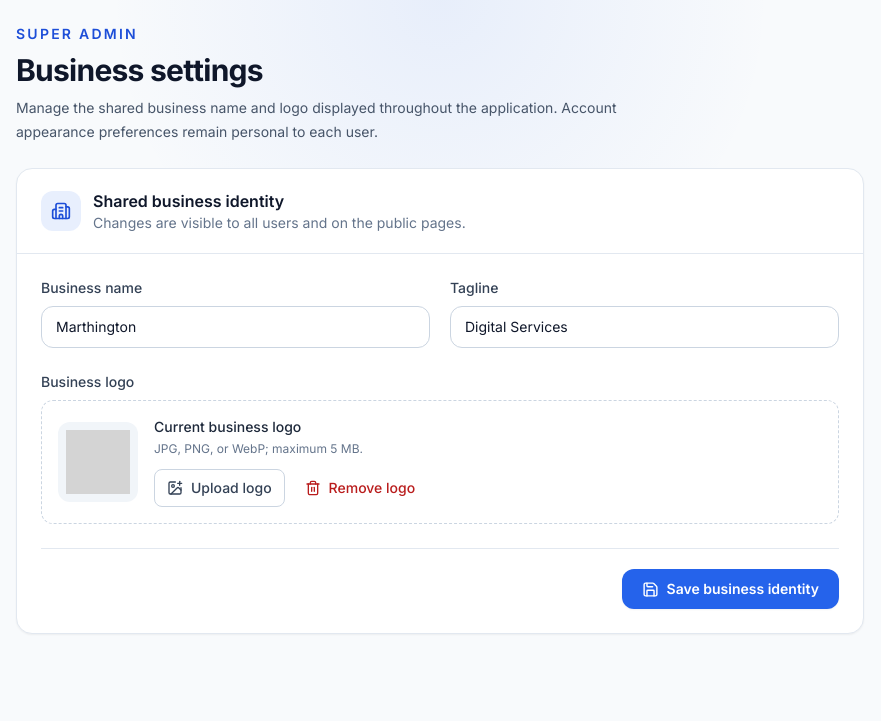
Test: business branding settings › saves shared business identity and applies it after the server confirms success
This screenshot has width=881, height=721.
Replace the text in the field labelled "Business name" with "Marthington Identity" at (236,327), box [41,306,430,348]
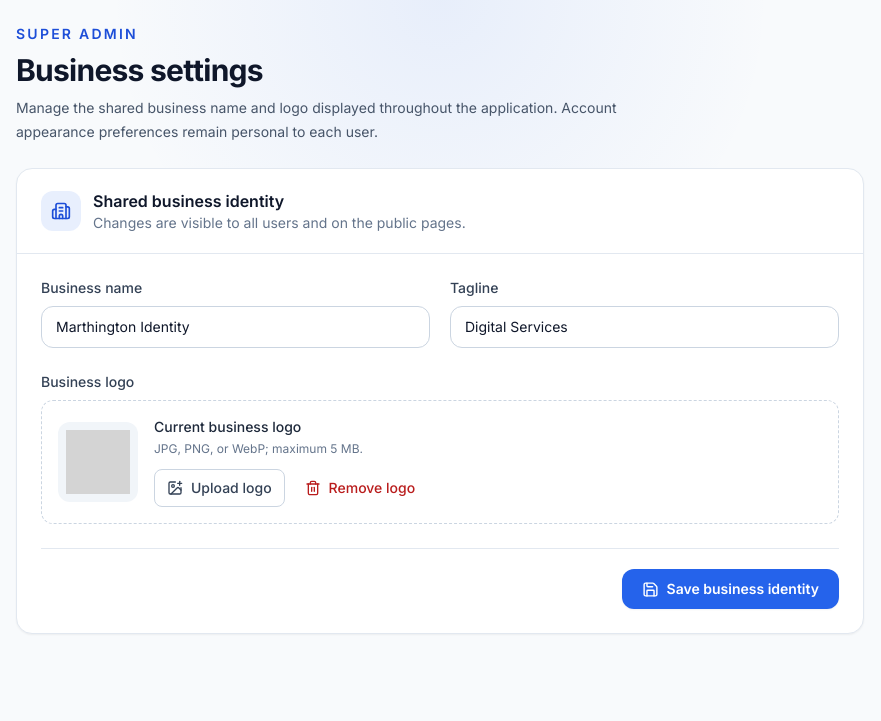
Replace the text in the field labelled "Tagline" with "Secure digital services" at (644,327), box [450,306,839,348]
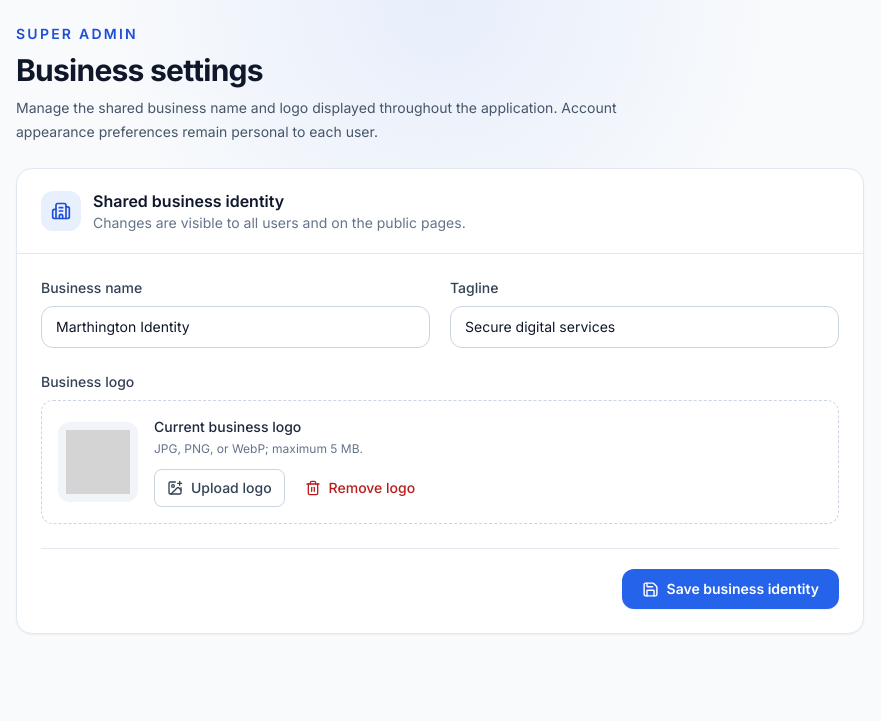
Click the button "Save business identity".
click(730, 589)  # box [622,569,839,609]
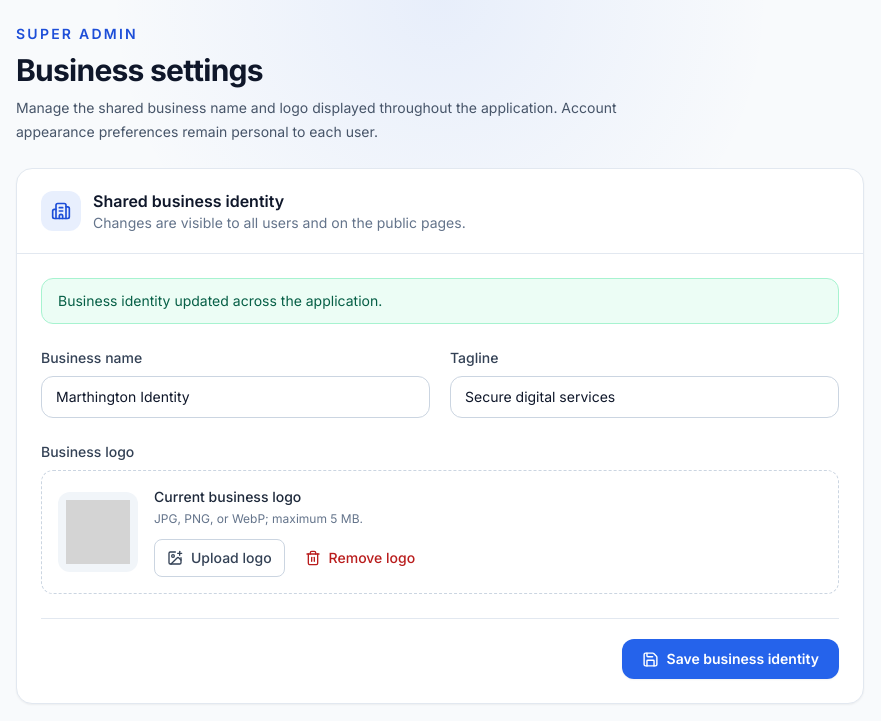
Expected: the message reads "Business identity updated across the application.", [58,292,382,309]
